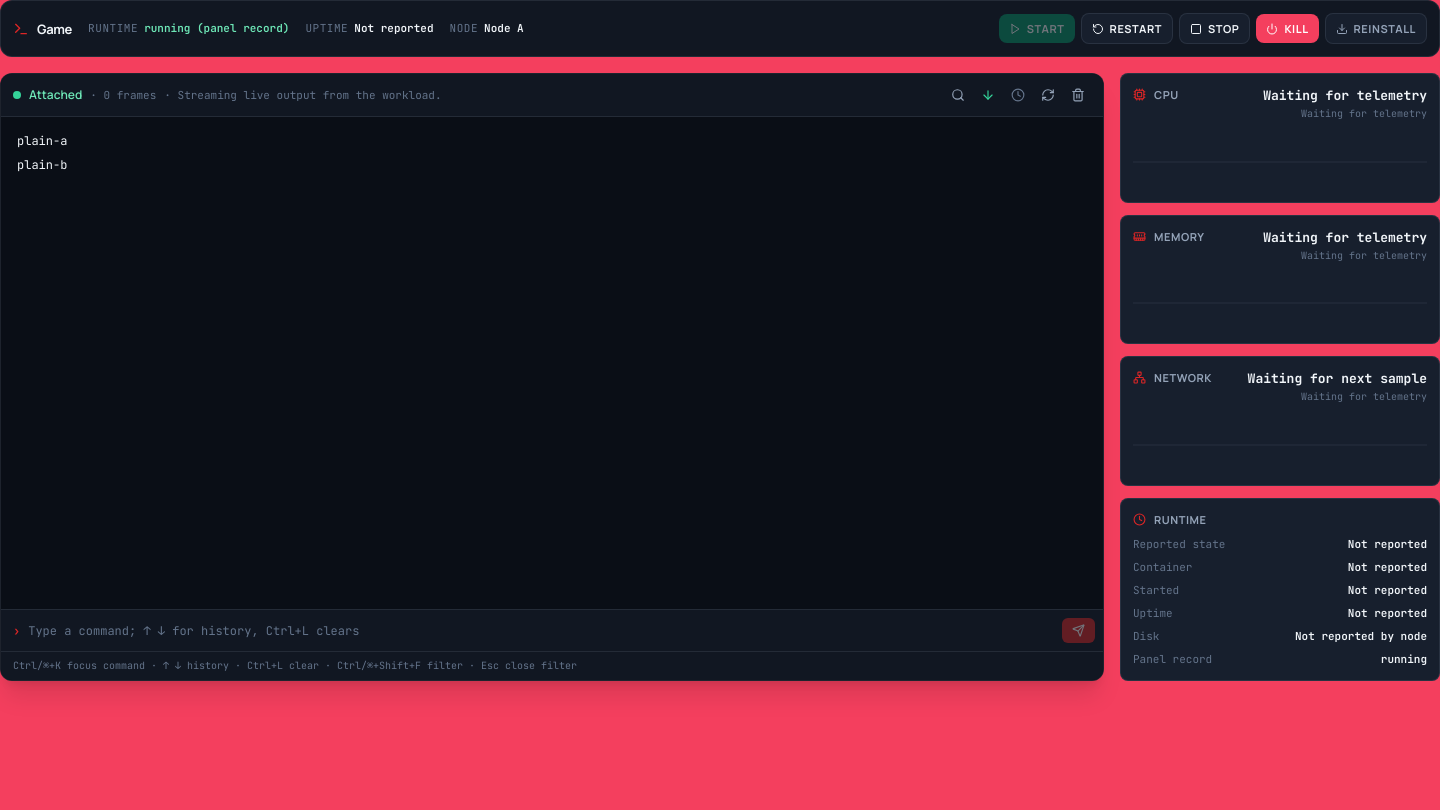
Test: console-view synthetic timestamps frozen vs serverTs › freezes Date.now per appendLines batch (all lines in same tick share ts)
The image size is (1440, 810).
Expected: the text "plain-a" is shown, 17,133 -> 67,149
Expected: the text "plain-b" is shown, 17,157 -> 67,173
Note: enable timestamps — should show synthetic for both, same value
Click the button named "Show timestamps" at coordinates (1018, 95), box 1005,82 -> 1031,108
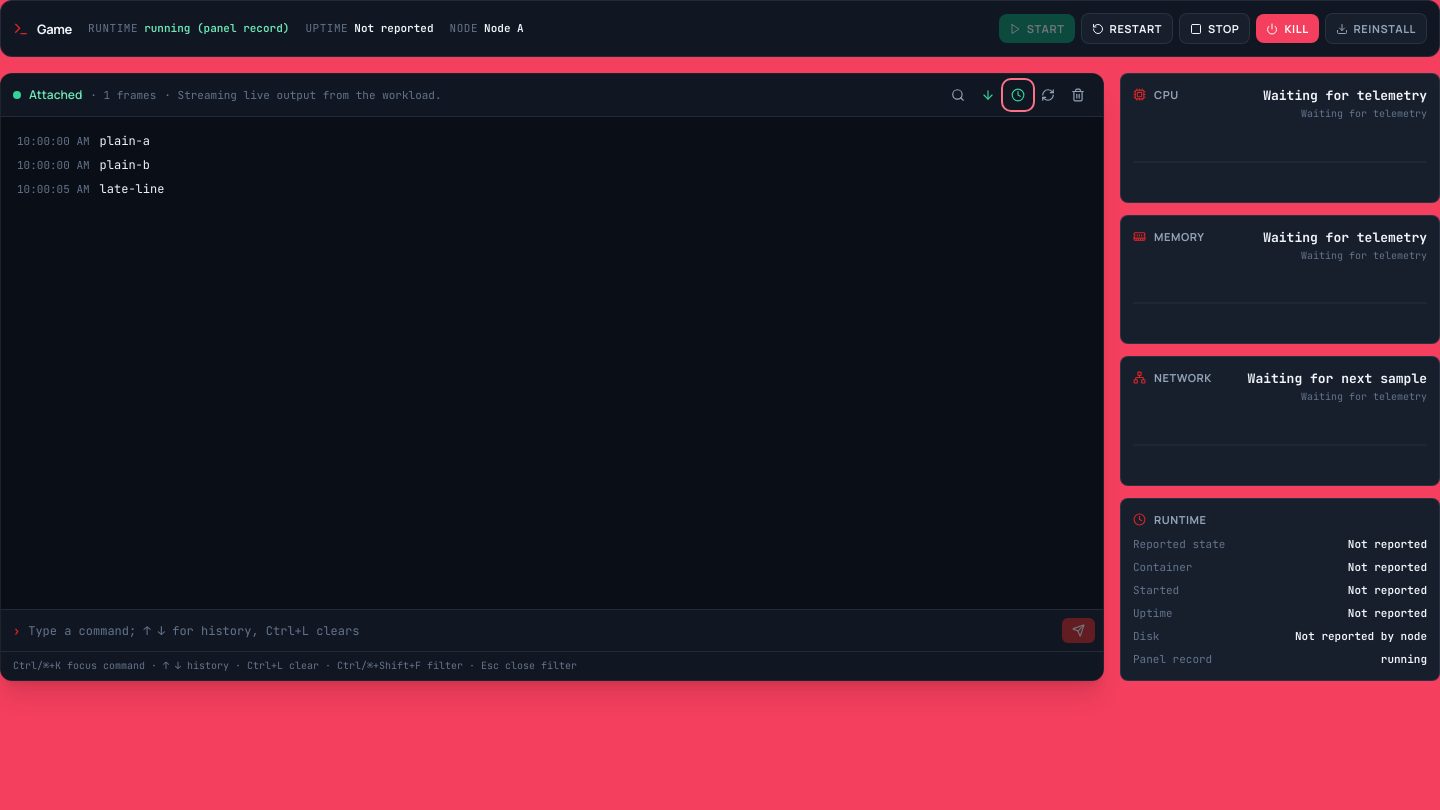
Now the text "late-line" is shown, box 100,181 -> 164,197
